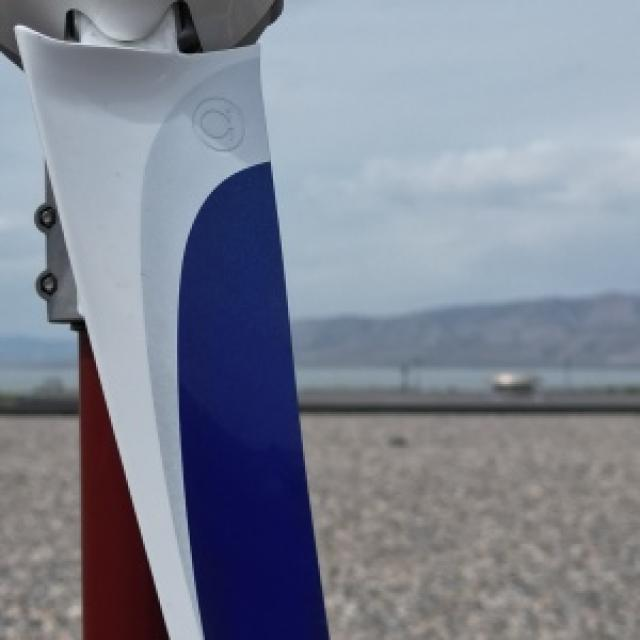healthy: (0, 0, 324, 638)
